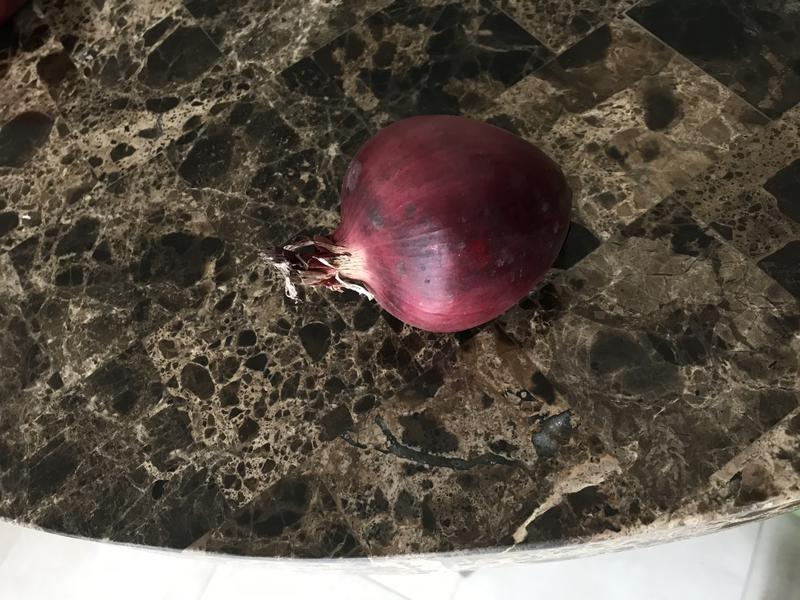purple_onion: (270, 105, 579, 341)
